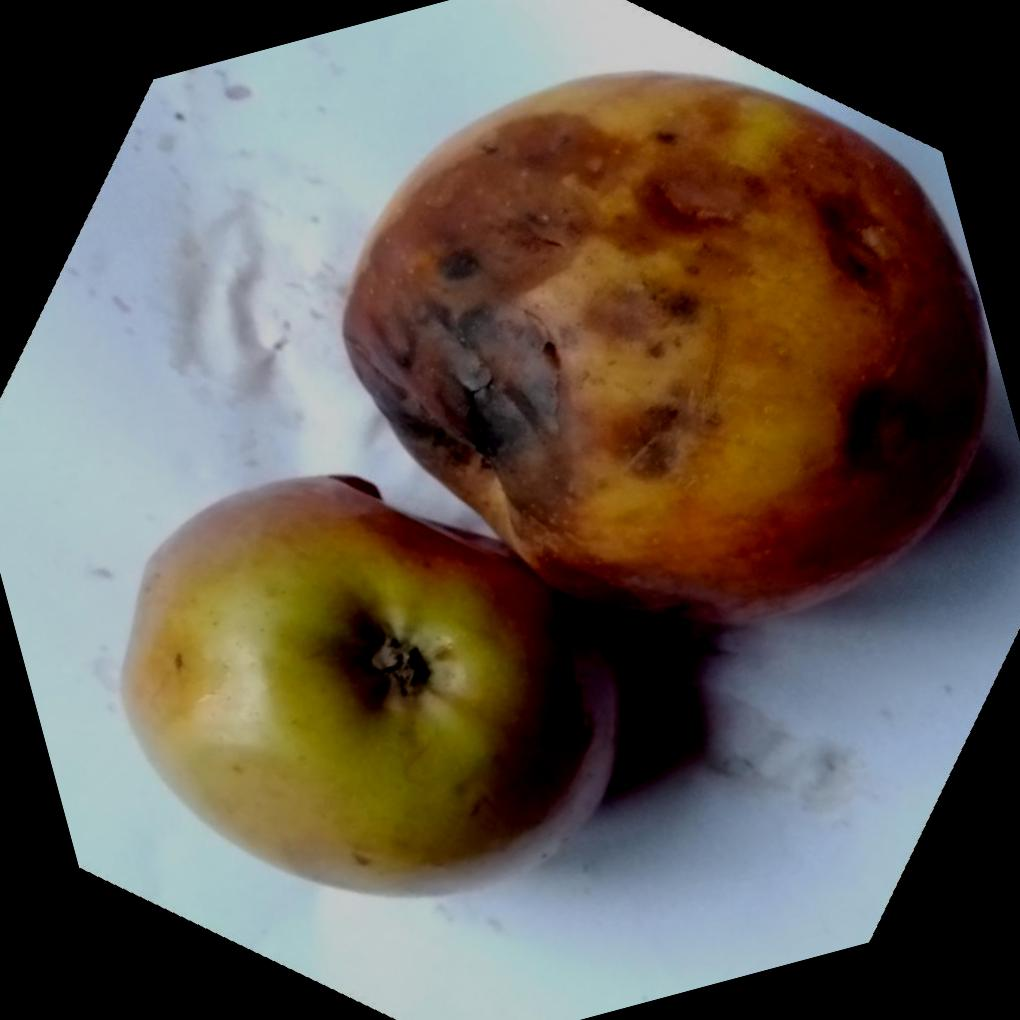FreshOrange: (113, 64, 990, 897)
